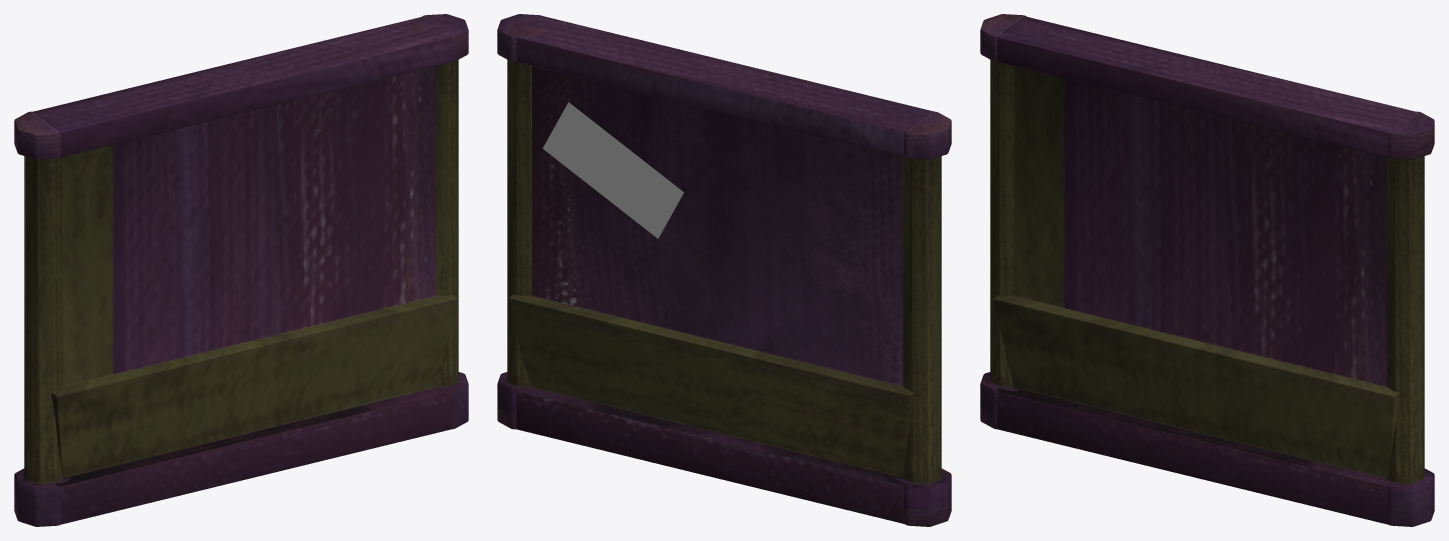
File: MANOR_WALL_3_005.obj
3 views of the same model, side by side, from view 1: azimuth 30°, elevation 25°; view 2: azimuth 150°, elevation 25°; view 3: azimuth 330°, elevation 25° (orthographic).
Visible parts, largest first — view 1: MANOR_WALL_3_005; view 2: MANOR_WALL_3_005; view 3: MANOR_WALL_3_005.
Boxes of the visible parts, box(x1,y1,x2,y2) form: MANOR_WALL_3_005: box(14, 14, 468, 526); MANOR_WALL_3_005: box(497, 14, 951, 526); MANOR_WALL_3_005: box(980, 14, 1434, 526).
Bounding box in the file's own units: 3.57 × 3 × 0.4138.
